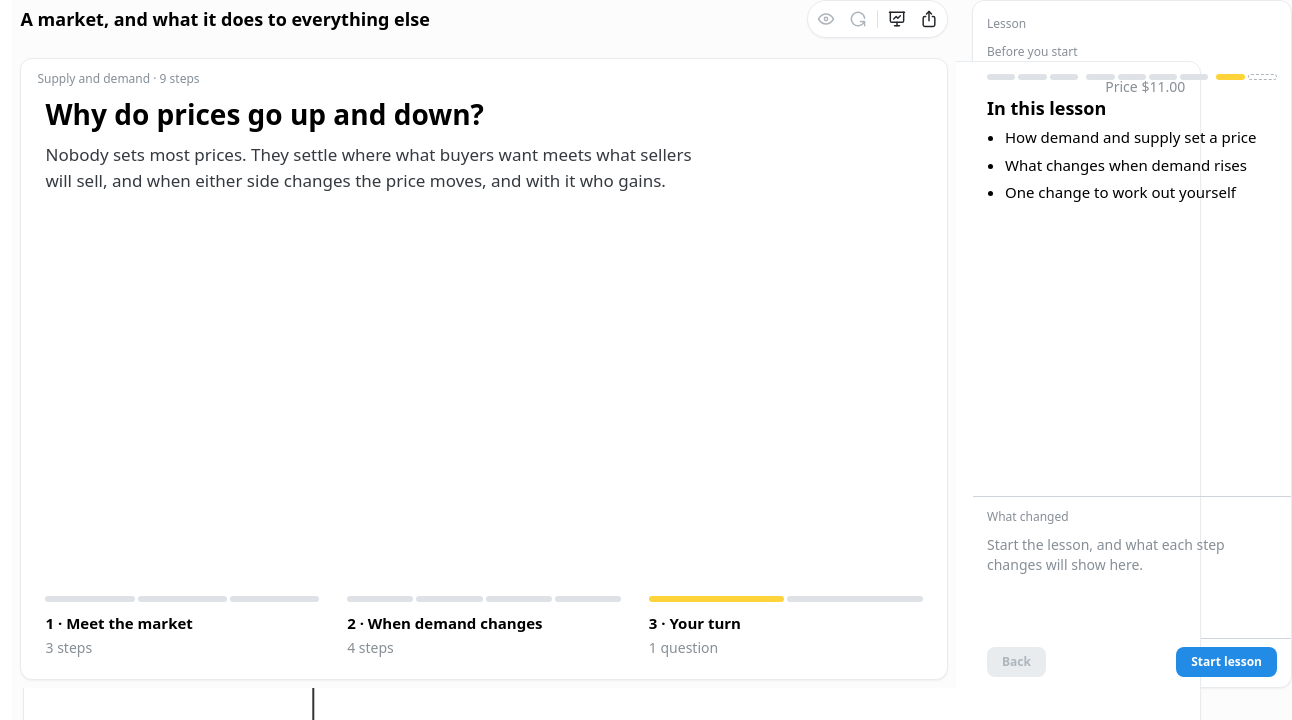
it: the lesson speaks on its card, and "What changed" reports the numbers › goes back to what the lesson is for at the start
Click the button named "Step 1 of 9: Demand: what buyers want": (1001, 77) x1=987 y1=67 x2=1015 y2=87
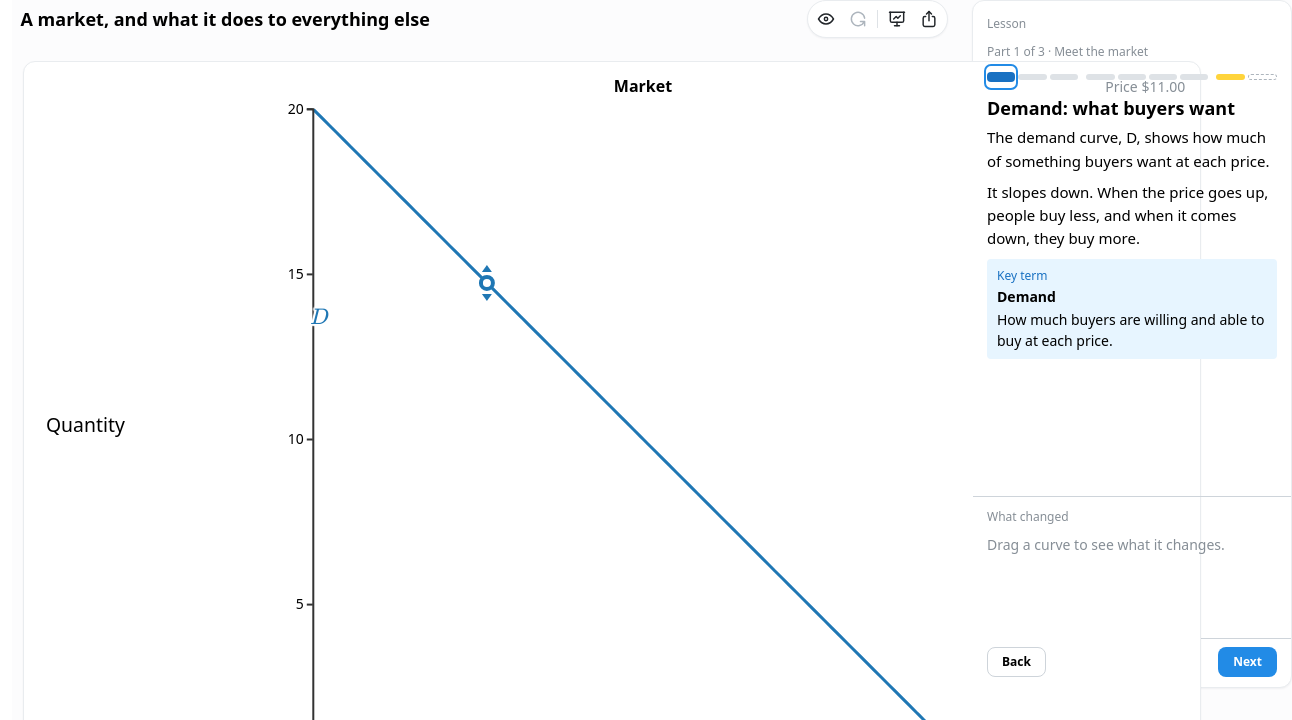
Click the button "Back": (1016, 662) x1=987 y1=647 x2=1046 y2=677
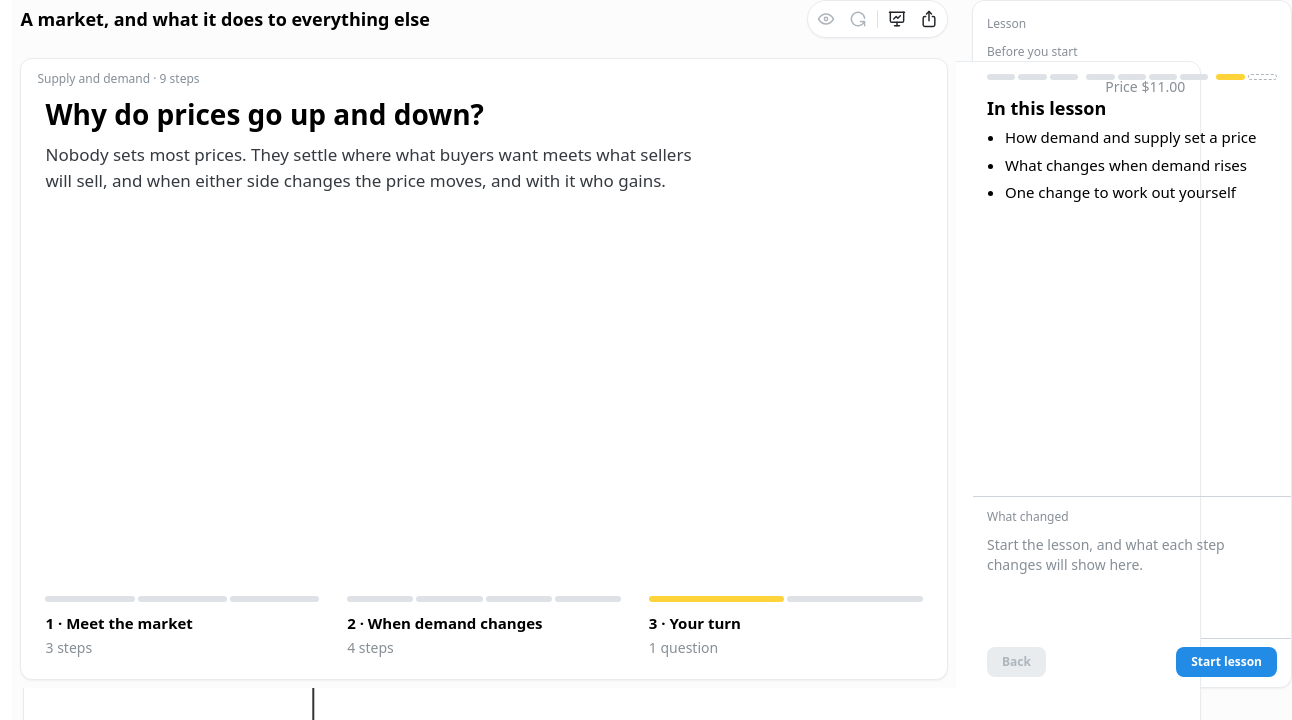
Expected: the element that starts with "In this lesson" is shown, x1=987 y1=96 x2=1106 y2=120
